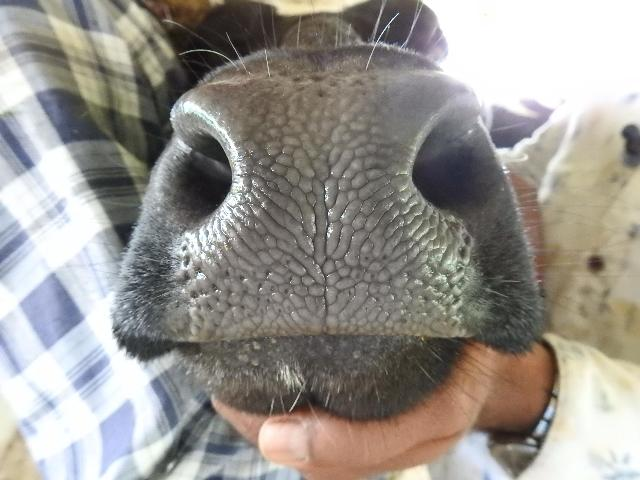Muzzle: (208, 97, 430, 332)
